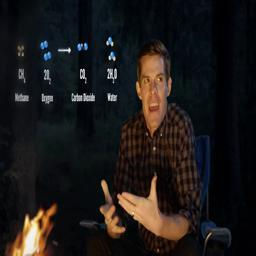fire: (11, 203, 56, 256)
